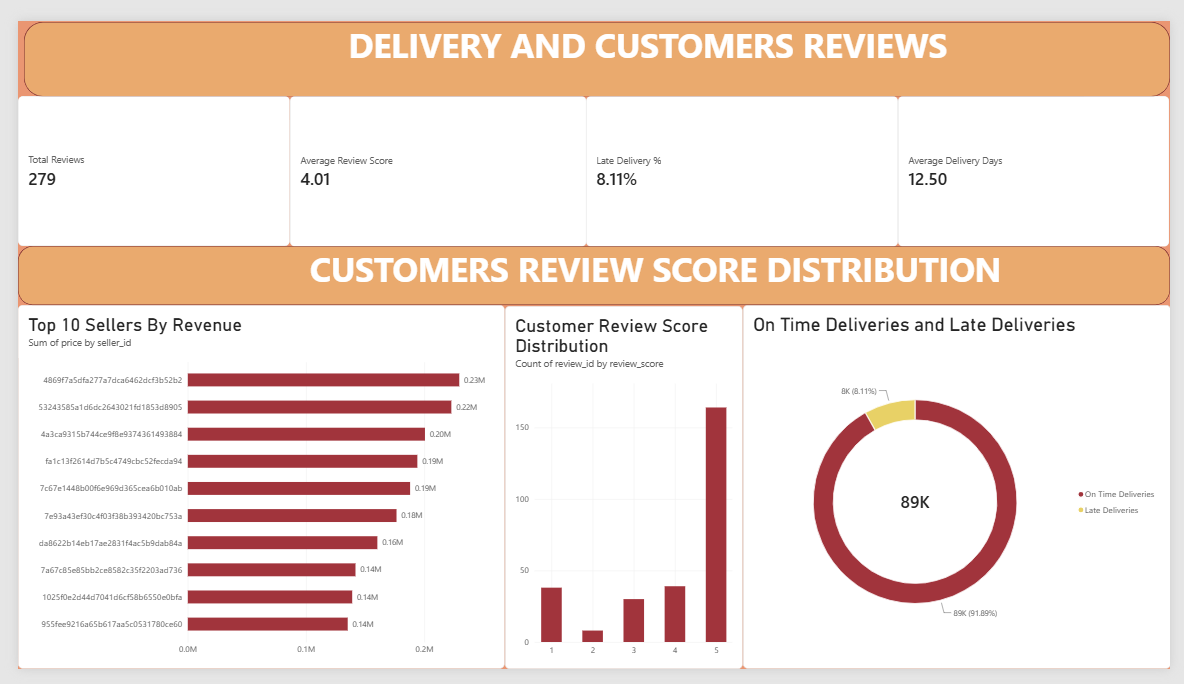

This screenshot's page, from the dashboard's own definition file:
{"tool":"powerbi","page":{"name":"Delivery & Customer Reviews","canvas":[1920,1080],"ordinal":2},"visuals":[{"type":"cardVisual","fields":{"Data":["ecommerce_sales olist_customers_dataset.Late Delivery %"]},"box":[947.1,124.3,520,251.4],"z":0},{"type":"clusteredColumnChart","title":"Customer Review Score Distribution","fields":{"Category":["ecommerce_sales olist_order_reviews_dataset.review_score"],"Y":["CountNonNull(ecommerce_sales olist_order_reviews_dataset.review_id)"]},"box":[811.2,475,396.2,605],"z":1000},{"type":"cardVisual","title":"Average Customer Rating","fields":{"Data":["ecommerce_sales olist_order_reviews_dataset.Average Review Score"]},"box":[452.9,125.7,494.3,251.4],"z":2000},{"type":"clusteredBarChart","title":"           Top 10 Sellers By  Revenue","fields":{"Category":["ecommerce_sales olist_order_items_dataset.seller_id"],"Y":["Sum(ecommerce_sales olist_order_items_dataset.price)"]},"box":[0,473.8,811.4,605.7],"z":3000},{"type":"cardVisual","fields":{"Data":["ecommerce_sales olist_customers_dataset.Average Delivery Days"]},"box":[1467.1,124.3,452.9,251.4],"z":4000},{"type":"cardVisual","title":"Total Customer Reviews","fields":{"Data":["ecommerce_sales olist_customers_dataset.Total Reviews"]},"box":[0,125.7,453,250],"z":6000},{"type":"donutChart","fields":{"Y":["ecommerce_sales olist_customers_dataset.On Time Deliveries","ecommerce_sales olist_customers_dataset.Late Deliveries"]},"box":[1207.5,473.8,712.5,606.2],"z":7000},{"type":"shape","box":[10,1.4,1910,124.3],"z":8000},{"type":"textbox","box":[10,1.4,1767.1,124.3],"z":9000},{"type":"shape","box":[0,375.7,1920,98.6],"z":9001},{"type":"textbox","box":[100,375.7,1820,98.6],"z":9002}]}

Visuals, with their boxes in screenshot pixels (x1, y1, x2, y2), scaled from the page's 1920x1080 canvas onto the 1184x684 screenshot:
cardVisual - ecommerce_sales olist_customers_dataset.Late Delivery %: <bbox>584, 79, 905, 238</bbox>
"Customer Review Score Distribution" clusteredColumnChart: <bbox>500, 301, 745, 683</bbox>
"Average Customer Rating" cardVisual: <bbox>279, 80, 584, 239</bbox>
"           Top 10 Sellers By  Revenue" clusteredBarChart: <bbox>0, 300, 500, 683</bbox>
cardVisual - ecommerce_sales olist_customers_dataset.Average Delivery Days: <bbox>905, 79, 1183, 238</bbox>
"Total Customer Reviews" cardVisual: <bbox>0, 80, 279, 238</bbox>
donutChart - ecommerce_sales olist_customers_dataset.On Time Deliveries x ecommerce_sales olist_customers_dataset.Late Deliveries: <bbox>745, 300, 1183, 683</bbox>
shape: <bbox>6, 1, 1183, 80</bbox>
textbox: <bbox>6, 1, 1096, 80</bbox>
shape: <bbox>0, 238, 1183, 300</bbox>
textbox: <bbox>62, 238, 1183, 300</bbox>
